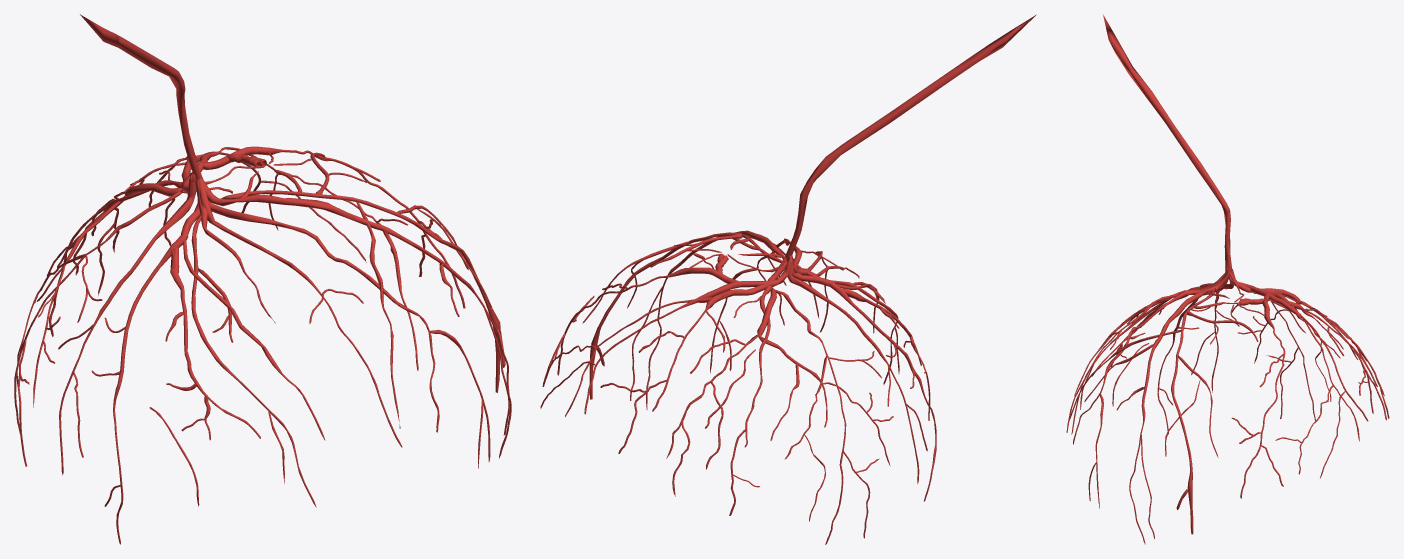
The picture shows the model from 3 angles, left to right: view 1: azimuth 30°, elevation 25°; view 2: azimuth 150°, elevation 25°; view 3: azimuth 270°, elevation 25°; orthographic projection. The views are drawn at different scales.
Visible parts, largest first — view 1: 左侧视网膜中央动脉; view 2: 左侧视网膜中央动脉; view 3: 左侧视网膜中央动脉.
Boxes of the visible parts, box(x1,y1,x2,y2) form: 左侧视网膜中央动脉: box(14, 14, 511, 544); 左侧视网膜中央动脉: box(540, 14, 1036, 544); 左侧视网膜中央动脉: box(1066, 14, 1389, 544).
Bounding box in the file's own units: 0.0431 × 0.0495 × 0.037.
